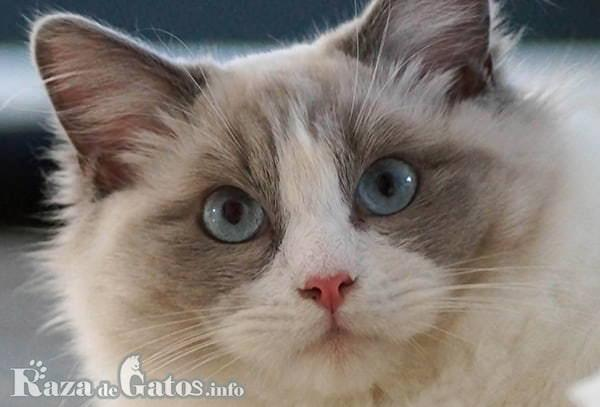ragdoll: (35, 1, 521, 407)
